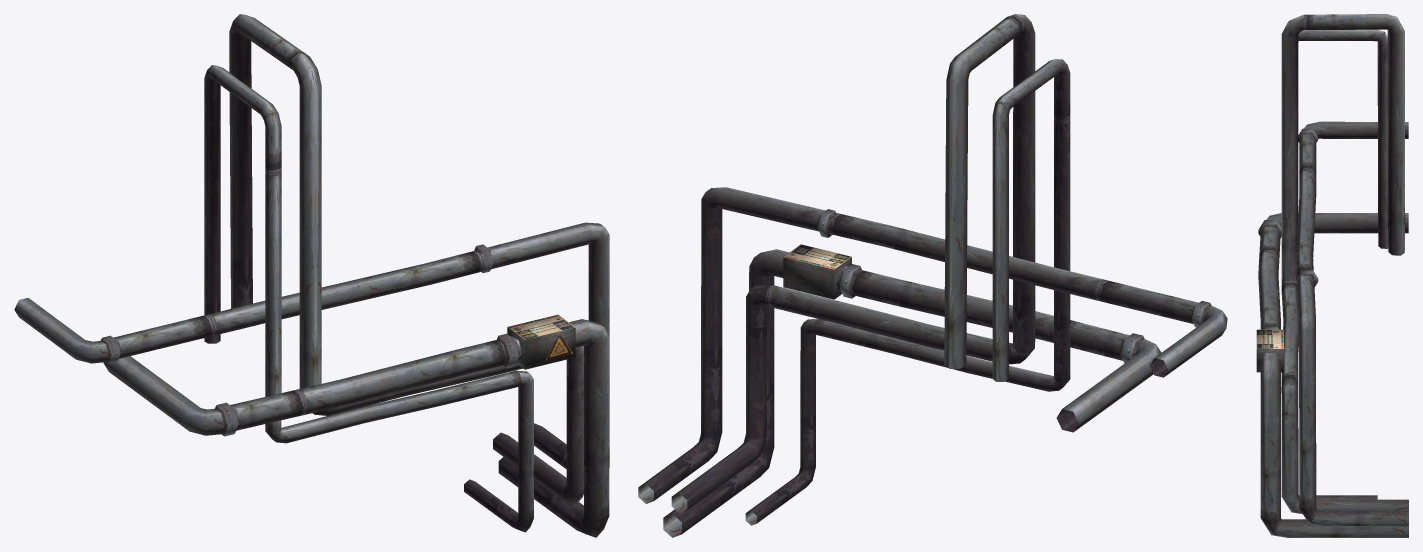
Rendered from S_Build_Matou009.FBX.
3 views of the same model, side by side, from view 1: azimuth 30°, elevation 25°; view 2: azimuth 150°, elevation 25°; view 3: azimuth 270°, elevation 25° (orthographic). The views are drawn at different scales.
Parts seen in each view (by area): view 1: S_Build_Matou009; view 2: S_Build_Matou009; view 3: S_Build_Matou009.
Boxes of the visible parts, x1,y1,x2,y2 form: S_Build_Matou009: (14,14,609,537); S_Build_Matou009: (638,14,1227,537); S_Build_Matou009: (1256,14,1408,537).
Size of the model in its own units: 717 by 231 by 699.
